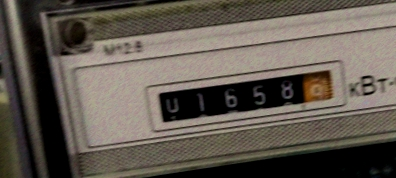0: (161, 91, 181, 114)
1: (191, 88, 208, 114)
5: (248, 81, 268, 107)
6: (219, 84, 241, 110)
8: (276, 77, 296, 101)
9: (306, 80, 325, 103)
screen: (140, 52, 352, 140)
